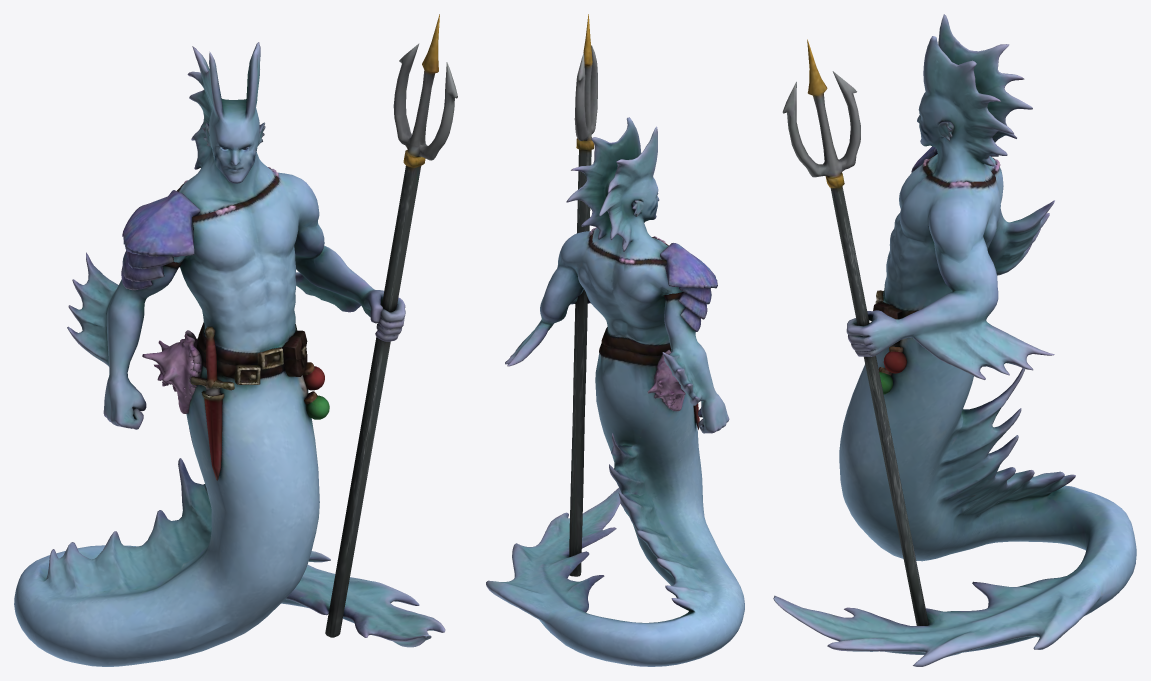
Rendered from MZ4250 - Merfolk Male.glb.
3 renders of one model, left to right at view 1: azimuth 30°, elevation 25°; view 2: azimuth 150°, elevation 25°; view 3: azimuth 270°, elevation 25°, orthographic. The views are drawn at different scales.
Visible parts, largest first — view 1: Merfolk Male Updated sculpted.001; view 2: Merfolk Male Updated sculpted.001; view 3: Merfolk Male Updated sculpted.001.
Boxes of the visible parts, x1=… form: Merfolk Male Updated sculpted.001: x1=14, y1=14, x2=457, y2=666; Merfolk Male Updated sculpted.001: x1=486, y1=14, x2=744, y2=666; Merfolk Male Updated sculpted.001: x1=773, y1=14, x2=1136, y2=666.
Bounding box in the file's own units: 25.27 × 48.04 × 25.28.
Materials: 1 (1 with a texture image).
